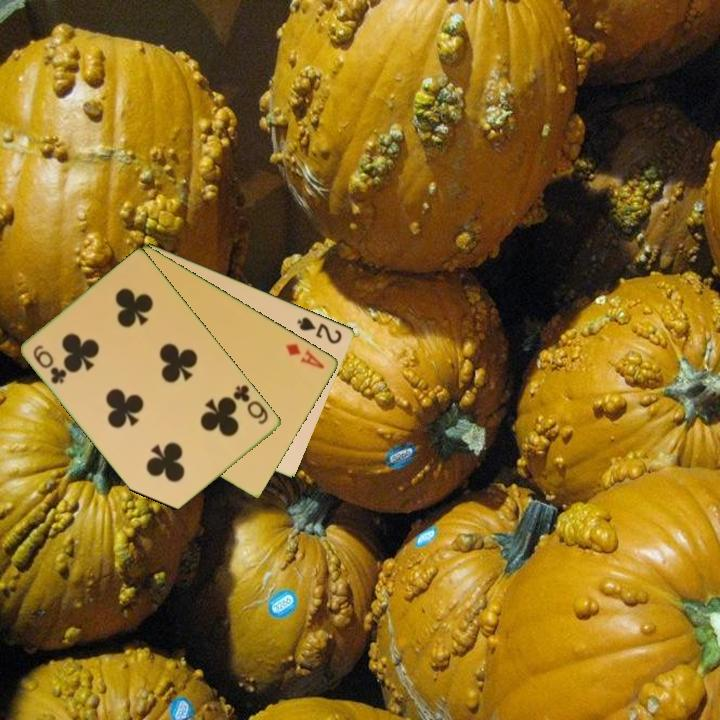2s: (294, 313, 345, 347)
6c: (230, 381, 272, 427), (30, 341, 70, 387)
Ad: (283, 340, 328, 372)
